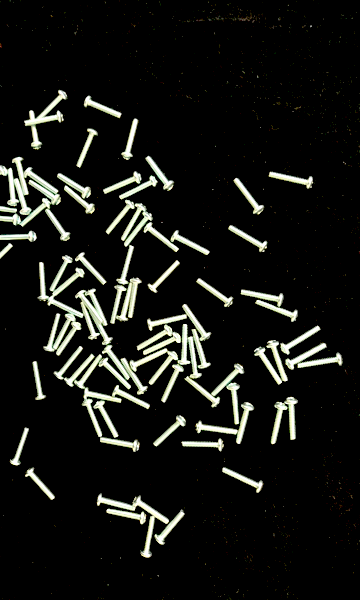longscrew: (233, 172, 266, 216), (228, 222, 268, 254), (144, 223, 184, 255), (284, 343, 326, 372), (280, 324, 322, 353), (173, 226, 212, 257), (194, 277, 233, 308), (26, 467, 56, 506), (154, 416, 185, 453), (94, 397, 120, 441), (268, 340, 294, 384), (86, 301, 112, 345), (5, 425, 30, 469), (119, 117, 144, 161), (75, 127, 100, 171), (280, 398, 305, 442), (255, 343, 280, 387), (26, 178, 62, 208), (110, 387, 153, 412), (77, 399, 102, 442), (265, 403, 290, 446), (25, 164, 60, 194), (185, 380, 222, 408), (155, 512, 187, 544), (210, 365, 244, 395), (84, 289, 113, 324), (146, 158, 175, 193), (65, 183, 94, 218), (75, 353, 103, 389), (150, 258, 178, 294), (75, 289, 103, 325), (130, 349, 167, 376), (77, 252, 107, 285), (108, 199, 134, 237), (55, 345, 83, 380), (66, 352, 94, 387), (182, 305, 210, 340), (222, 468, 264, 491), (20, 199, 50, 230), (151, 352, 176, 389), (121, 175, 158, 200), (58, 175, 92, 202), (48, 293, 84, 318), (122, 204, 146, 241), (127, 212, 152, 247), (44, 211, 72, 242), (193, 327, 213, 370), (144, 334, 181, 357), (30, 360, 50, 402), (237, 403, 257, 445), (224, 383, 244, 425), (97, 435, 141, 454), (179, 437, 223, 456), (298, 355, 342, 374), (81, 98, 125, 117), (164, 365, 183, 409), (136, 329, 172, 352), (105, 346, 130, 379), (194, 419, 237, 438), (55, 312, 77, 349), (101, 361, 130, 389), (123, 361, 148, 393), (94, 493, 138, 511), (103, 508, 147, 526), (269, 170, 313, 188), (104, 173, 140, 195), (55, 270, 83, 298), (57, 322, 80, 356), (256, 302, 299, 320), (241, 288, 284, 306), (23, 111, 66, 129), (83, 386, 121, 406), (0, 226, 42, 244), (80, 302, 99, 339), (52, 256, 70, 292), (119, 280, 134, 322), (12, 154, 27, 196), (4, 166, 19, 208), (178, 325, 193, 367), (44, 311, 59, 353), (185, 338, 200, 379), (148, 314, 186, 330), (128, 278, 142, 320), (119, 243, 133, 285), (111, 285, 125, 327), (36, 261, 50, 303), (27, 109, 41, 151), (15, 176, 29, 218), (0, 211, 23, 229), (0, 202, 20, 215)
